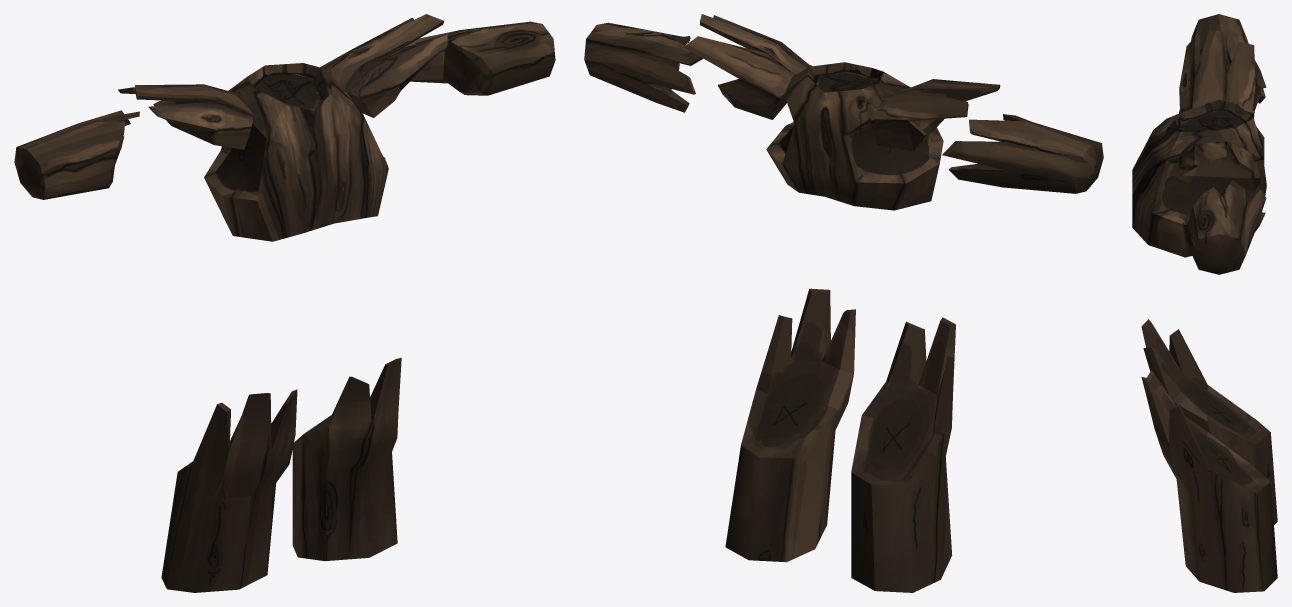
Rendered from ArmourSet_NATURE_V03.fbx.
3 views of the same model, side by side, from view 1: azimuth 30°, elevation 25°; view 2: azimuth 150°, elevation 25°; view 3: azimuth 270°, elevation 25° (orthographic). The views are drawn at different scales.
Parts seen in each view (by area): view 1: M_Chest_Arm, M_Greave_R_Arm, M_Greave_L_Arm, M_Gauntlet_L_Arm, M_Gauntlet_R_Arm, M_Paldron_L_Arm, M_Paldron_R_Arm; view 2: M_Greave_L_Arm, M_Greave_R_Arm, M_Chest_Arm, M_Gauntlet_R_Arm, M_Gauntlet_L_Arm, M_Paldron_L_Arm, M_Paldron_R_Arm; view 3: M_Greave_L_Arm, M_Chest_Arm, M_Greave_R_Arm, M_Gauntlet_L_Arm, M_Paldron_R_Arm, M_Paldron_L_Arm, M_Gauntlet_R_Arm.
Part boxes in pixels (x1=…): M_Chest_Arm: x1=204, y1=63, x2=388, y2=241; M_Greave_R_Arm: x1=161, y1=389, x2=297, y2=592; M_Greave_L_Arm: x1=292, y1=357, x2=401, y2=561; M_Gauntlet_L_Arm: x1=387, y1=21, x2=555, y2=95; M_Gauntlet_R_Arm: x1=14, y1=110, x2=139, y2=199; M_Paldron_L_Arm: x1=320, y1=14, x2=447, y2=117; M_Paldron_R_Arm: x1=118, y1=84, x2=253, y2=149; M_Greave_L_Arm: x1=725, y1=288, x2=855, y2=562; M_Greave_R_Arm: x1=851, y1=317, x2=955, y2=592; M_Chest_Arm: x1=766, y1=62, x2=943, y2=210; M_Gauntlet_R_Arm: x1=942, y1=114, x2=1103, y2=193; M_Gauntlet_L_Arm: x1=584, y1=22, x2=703, y2=112; M_Paldron_L_Arm: x1=684, y1=14, x2=811, y2=119; M_Paldron_R_Arm: x1=870, y1=79, x2=1000, y2=151; M_Greave_L_Arm: x1=1141, y1=370, x2=1277, y2=592; M_Chest_Arm: x1=1132, y1=99, x2=1266, y2=257; M_Greave_R_Arm: x1=1141, y1=319, x2=1277, y2=524; M_Gauntlet_L_Arm: x1=1187, y1=180, x2=1266, y2=274; M_Paldron_R_Arm: x1=1179, y1=30, x2=1260, y2=117; M_Paldron_L_Arm: x1=1177, y1=141, x2=1260, y2=191; M_Gauntlet_R_Arm: x1=1191, y1=14, x2=1266, y2=103.
Bounding box in the file's own units: 189 × 177 × 51.13.
